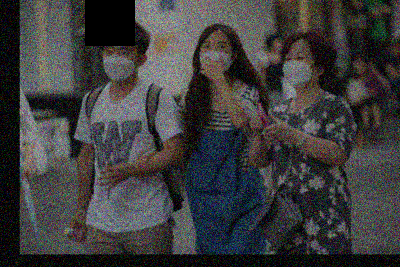with_mask: (102, 43, 136, 82), (282, 49, 314, 88), (198, 38, 231, 74)
